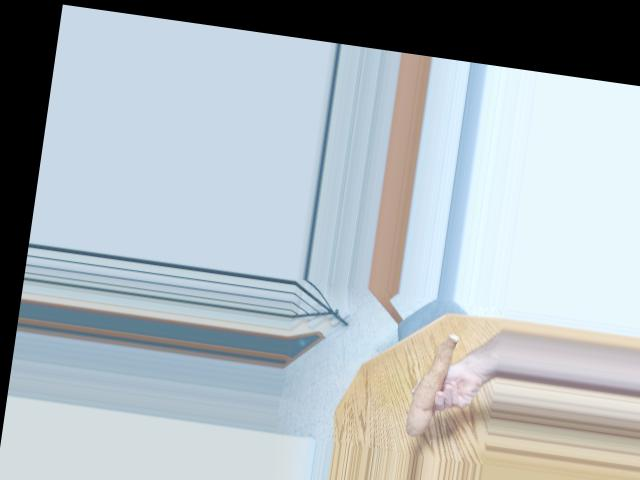sweet_potato: (398, 331, 460, 436)
